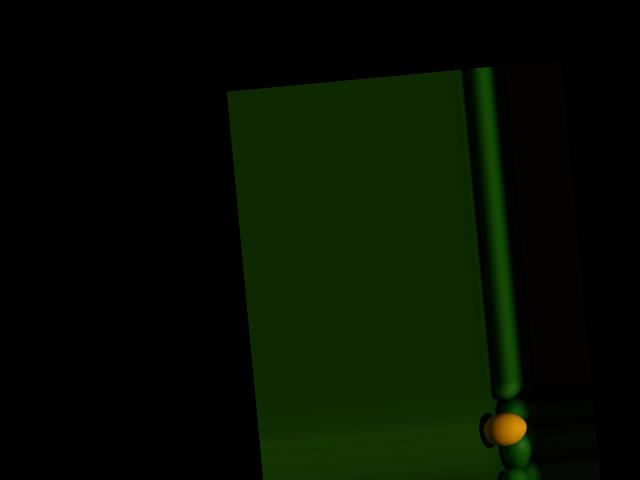egg: (481, 411, 527, 448)
